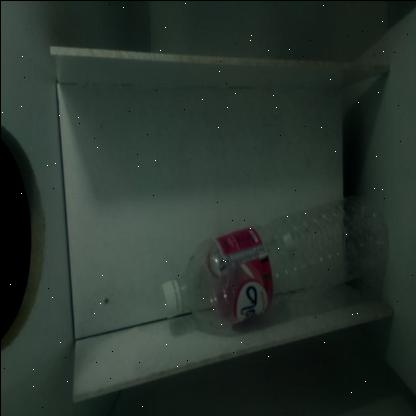Plastic Bottle: (159, 197, 385, 322)
